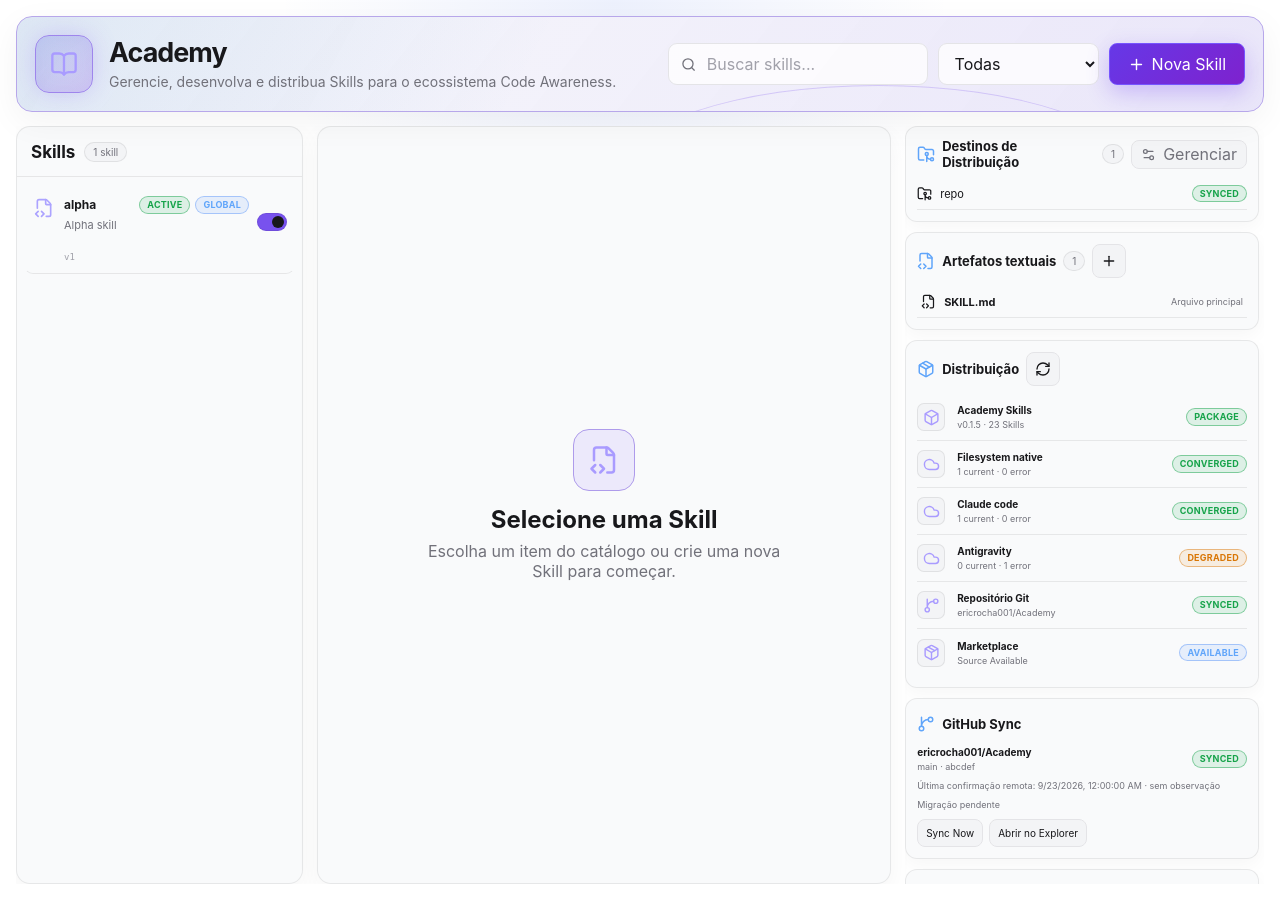
Test: switches overview and history without changing the selected skill
What coordinates should you click on to do the following:
click the button "alpha ACTIVE GLOBAL Alpha skill v1"
I would click on:
 (80, 205)
Its box is [24,184,295,274].
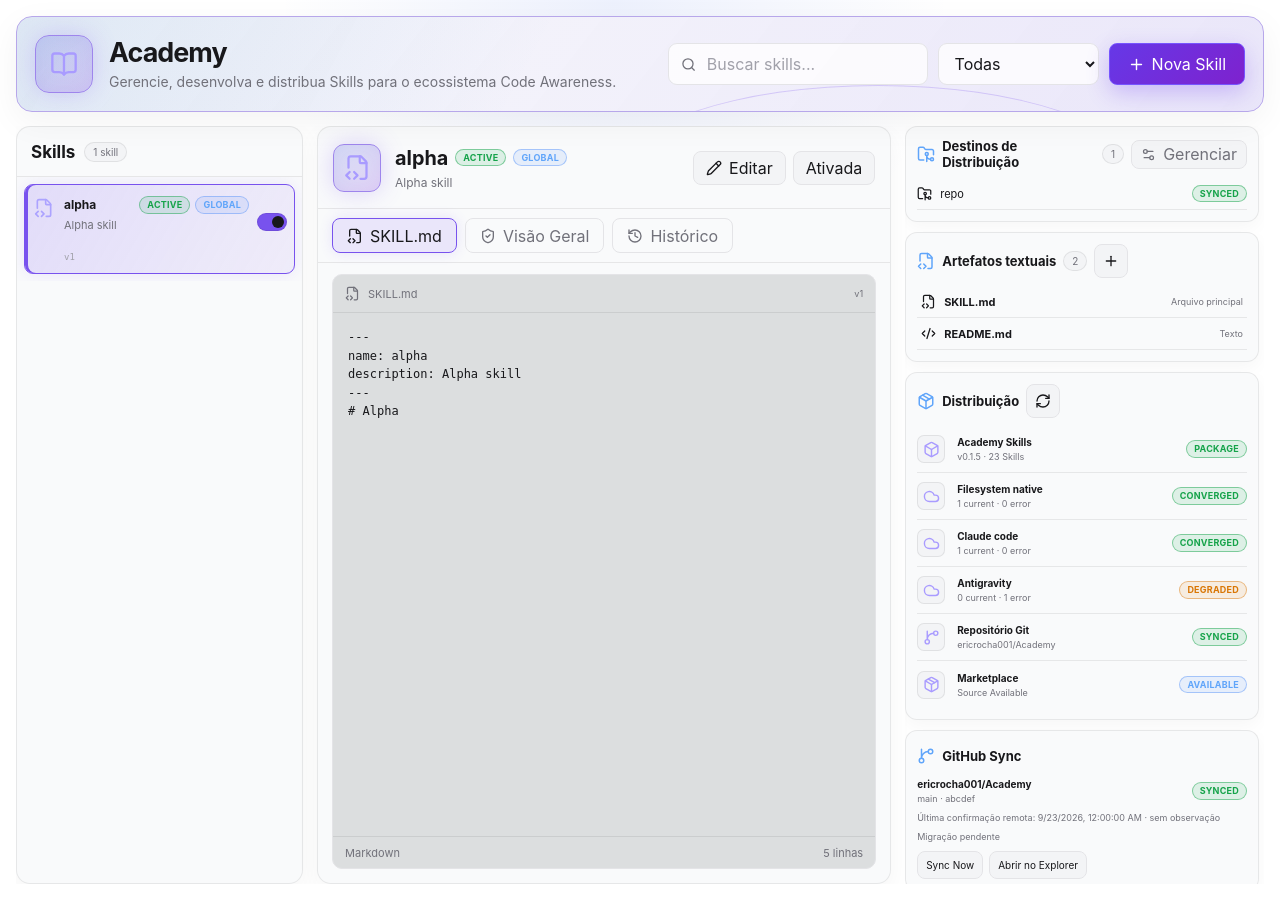
Check: the button "Editar" is shown, box [693,150,786,184]
What coordinates should you click on to do the following:
click the button "Visão Geral"
I would click on:
 (535, 236)
Its box is [465,218,604,253].
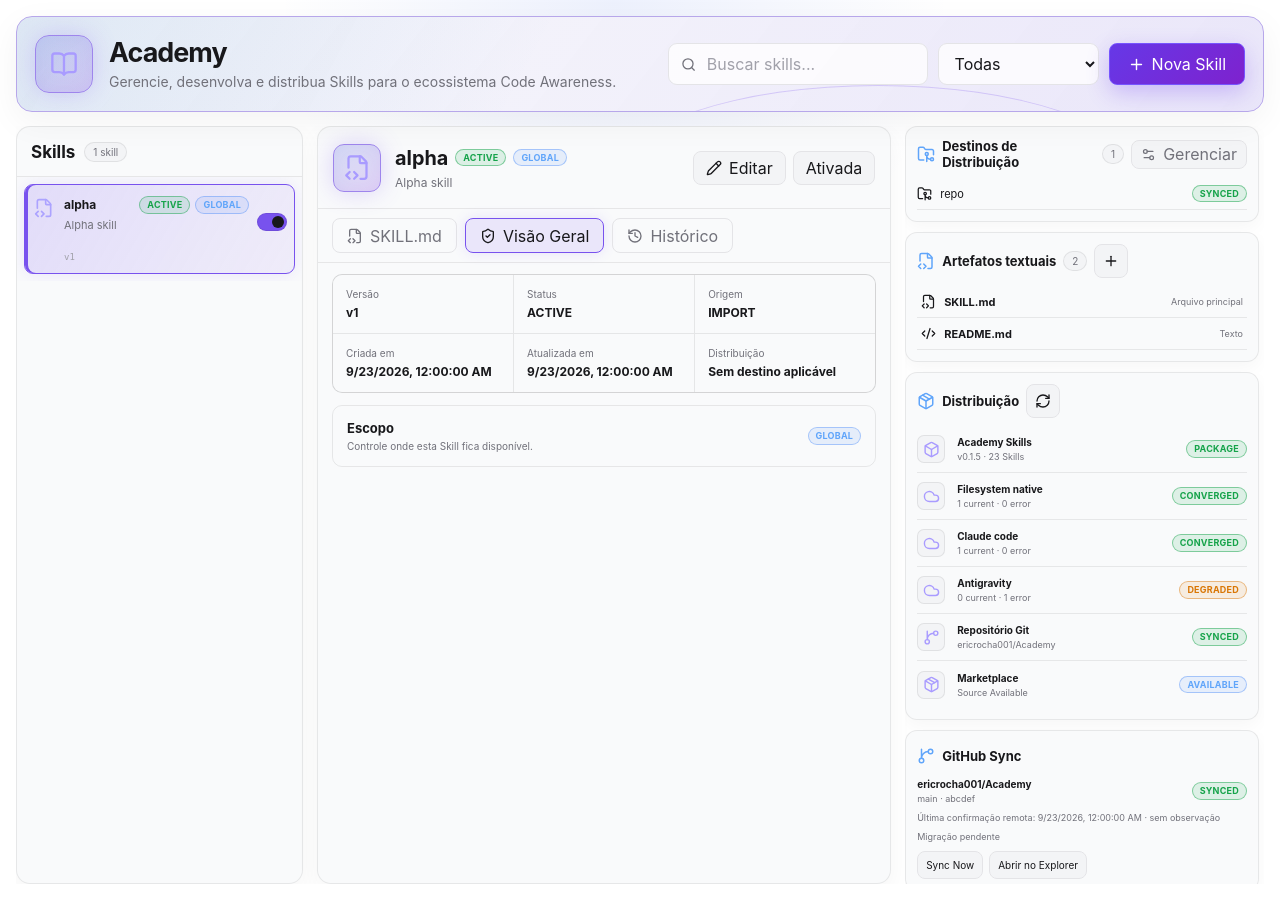
Check: the element named "Visão geral da Skill" is shown, box [332,274,876,467]
Check: the text "Sem destino aplicável" is shown, box [708,364,836,379]
What coordinates should you click on to do the following:
click the button "Histórico"
I would click on:
 (673, 236)
Its box is [612,218,733,253].
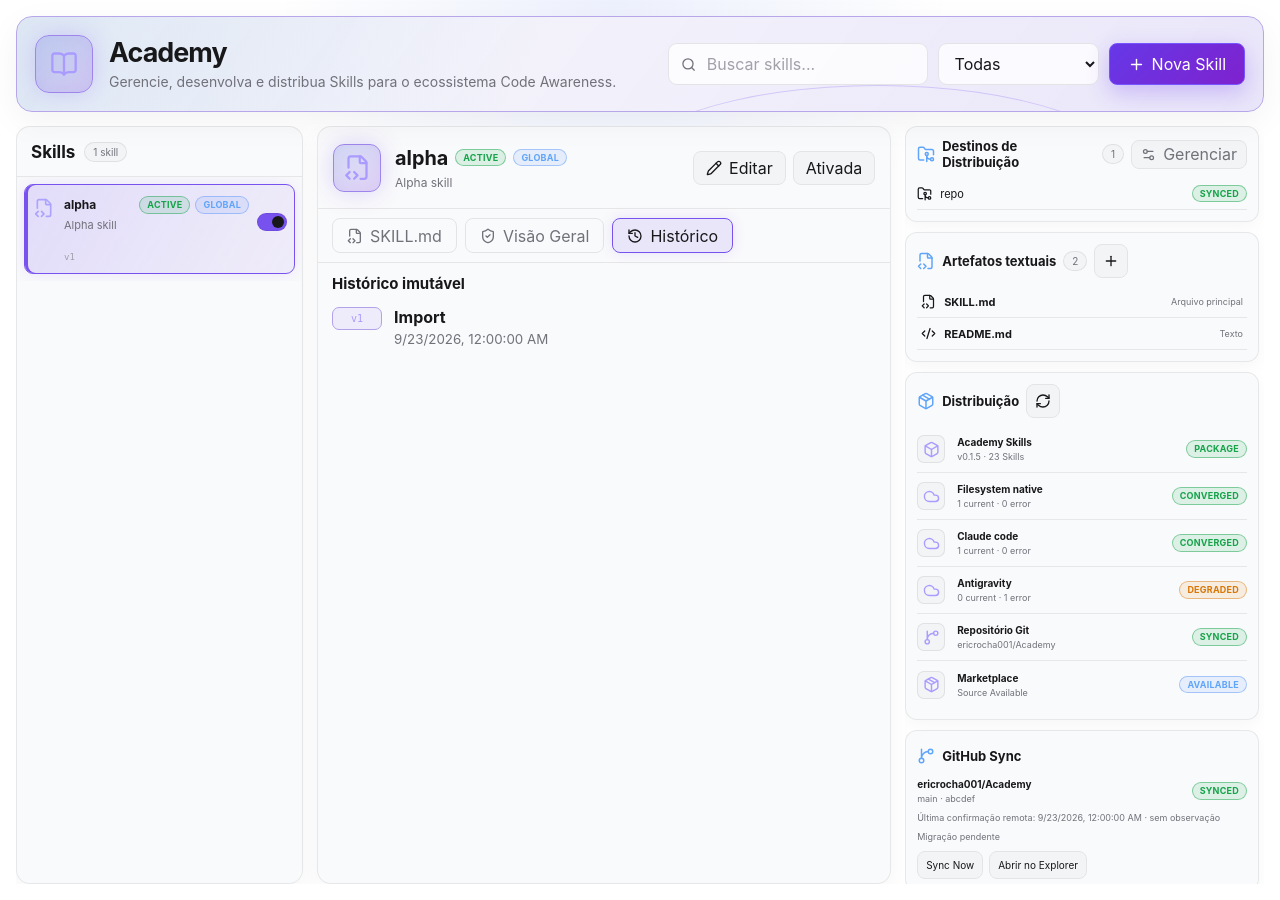
Check: the text "v1" next to "Import" is shown, box [332,307,382,330]
Check: the element labelled "Histórico imutável" is shown, box [332,274,548,347]
